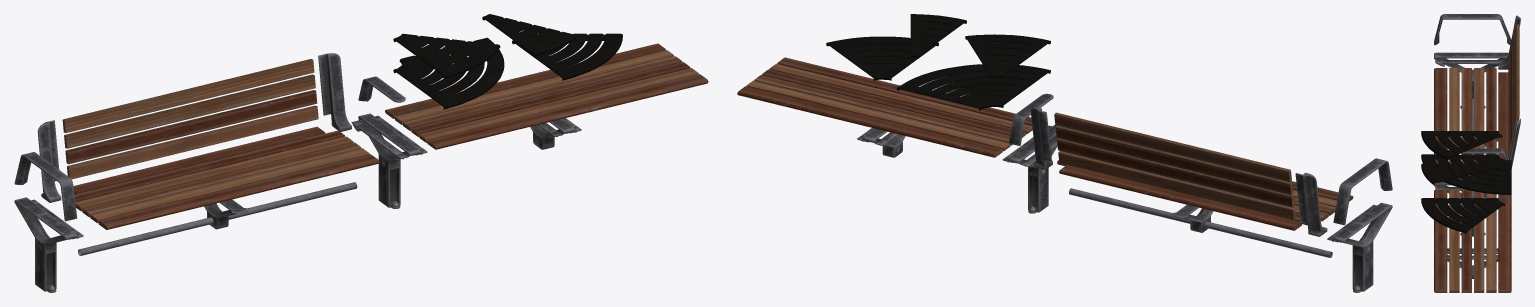
File: modular_street_seating.glb
3 renders of one model, left to right at view 1: azimuth 30°, elevation 25°; view 2: azimuth 150°, elevation 25°; view 3: azimuth 270°, elevation 25°, orthographic. The views are drawn at different scales.
Visible parts, largest first — view 1: seat_back, seat, seat_bench, connector_90, legs_double, connector_45, legs_single, connector_60, crossbar, connector_30, back_support_l, arm_rest_01 (+4 smaller); view 2: seat_bench, seat_back, connector_90, seat, connector_60, legs_single, connector_45, crossbar, legs_double, connector_30, arm_rest_01, back_support_r (+4 smaller); view 3: seat_bench, seat, connector_90, connector_60, connector_45, seat_back, connector_30, legs_single, arm_rest_01, arm_rest_02, back_support_r, legs_double (+3 smaller).
Part boxes in pixels (left/top/right/bottom): seat_back: left=62, top=59, right=318, bottom=179; seat: left=73, top=126, right=379, bottom=229; seat_bench: left=385, top=43, right=708, bottom=149; connector_90: left=393, top=37, right=504, bottom=109; legs_double: left=351, top=113, right=427, bottom=208; connector_45: left=393, top=33, right=500, bottom=78; legs_single: left=14, top=197, right=83, bottom=292; connector_60: left=512, top=33, right=622, bottom=80; crossbar: left=78, top=182, right=357, bottom=255; connector_30: left=482, top=14, right=577, bottom=56; back_support_l: left=318, top=53, right=351, bottom=131; arm_rest_01: left=14, top=152, right=77, bottom=221; seat_bench: left=737, top=57, right=1032, bottom=157; seat_back: left=1054, top=112, right=1295, bottom=220; connector_90: left=896, top=64, right=1050, bottom=110; seat: left=1057, top=160, right=1353, bottom=230; connector_60: left=826, top=36, right=938, bottom=80; legs_single: left=1327, top=202, right=1392, bottom=292; connector_45: left=965, top=34, right=1050, bottom=78; crossbar: left=1069, top=188, right=1332, bottom=257; legs_double: left=1002, top=124, right=1058, bottom=213; connector_30: left=910, top=14, right=966, bottom=57; arm_rest_01: left=1333, top=158, right=1392, bottom=225; back_support_r: left=1295, top=172, right=1327, bottom=236; seat_bench: left=1434, top=189, right=1511, bottom=292; seat: left=1434, top=68, right=1508, bottom=163; connector_90: left=1421, top=154, right=1511, bottom=194; connector_60: left=1421, top=198, right=1505, bottom=233; connector_45: left=1421, top=131, right=1502, bottom=160; seat_back: left=1508, top=24, right=1519, bottom=157; connector_30: left=1421, top=163, right=1500, bottom=185; legs_single: left=1434, top=52, right=1508, bottom=108; arm_rest_01: left=1434, top=14, right=1511, bottom=45; arm_rest_02: left=1461, top=148, right=1508, bottom=159; back_support_r: left=1498, top=15, right=1520, bottom=69; legs_double: left=1434, top=181, right=1486, bottom=236.
Size of the model in its own units: 4.34 by 0.95 by 0.7704.
Materials: 4 (4 with a texture image).
